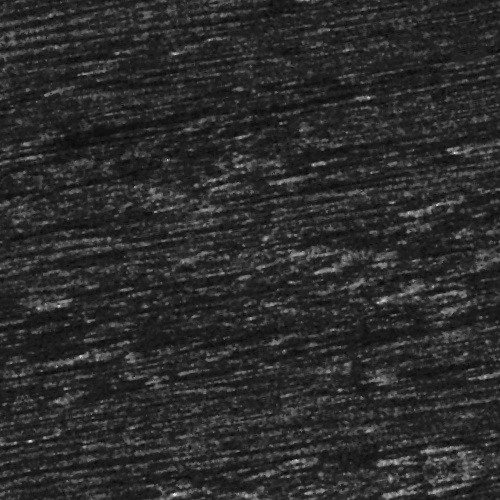object: (343, 2, 416, 15), (0, 109, 59, 120), (50, 99, 113, 108), (218, 196, 281, 201), (305, 171, 346, 174)
shadow: (23, 109, 205, 120), (81, 99, 265, 108), (380, 2, 472, 15), (249, 196, 444, 201), (325, 171, 500, 174)
